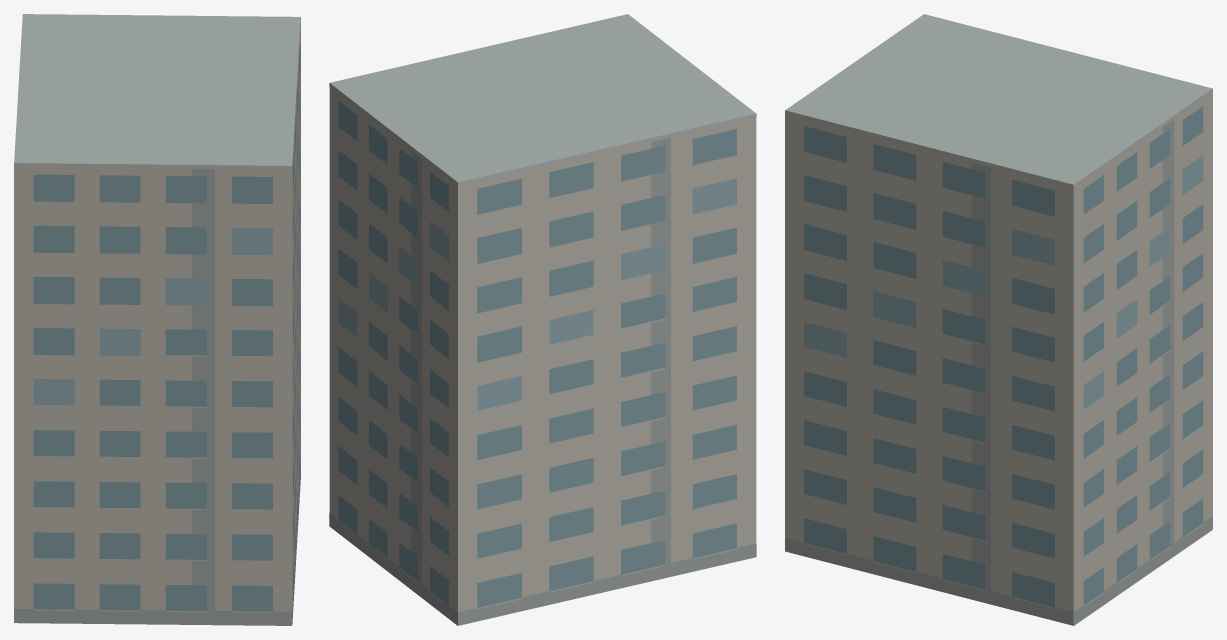
The model's file is residential-5e6dea77-7da7-48a7-9403-2f1fb855764c.glb.
3 views of the same model, side by side, from view 1: azimuth 30°, elevation 25°; view 2: azimuth 150°, elevation 25°; view 3: azimuth 270°, elevation 25° (orthographic). The views are drawn at different scales.
Parts seen in each view (by area): view 1: residential-5e6dea77-7da7-48a7-9403-2f1fb855764c.tmp; view 2: residential-5e6dea77-7da7-48a7-9403-2f1fb855764c.tmp; view 3: residential-5e6dea77-7da7-48a7-9403-2f1fb855764c.tmp.
Boxes of the visible parts, x1=… form: residential-5e6dea77-7da7-48a7-9403-2f1fb855764c.tmp: x1=14, y1=14, x2=300, y2=625; residential-5e6dea77-7da7-48a7-9403-2f1fb855764c.tmp: x1=329, y1=14, x2=756, y2=625; residential-5e6dea77-7da7-48a7-9403-2f1fb855764c.tmp: x1=785, y1=14, x2=1212, y2=625.
Size of the model in its own units: 21.58 by 26 by 22.85.
